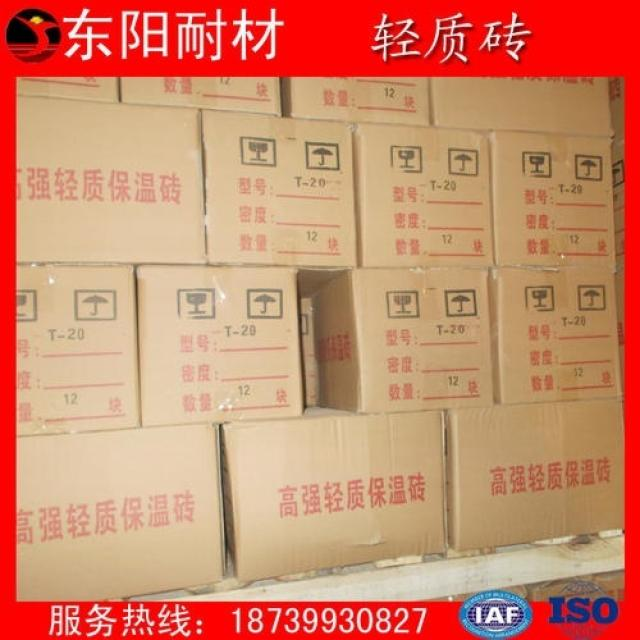box: (222, 403, 447, 580), (16, 424, 225, 602), (16, 97, 206, 265), (200, 112, 357, 299), (444, 397, 624, 550), (136, 265, 303, 428), (314, 267, 498, 414), (16, 264, 140, 439), (352, 125, 493, 268), (492, 269, 625, 402), (488, 131, 614, 269), (429, 77, 613, 138), (280, 77, 433, 127), (118, 77, 284, 116), (17, 79, 119, 103), (300, 300, 320, 404)
